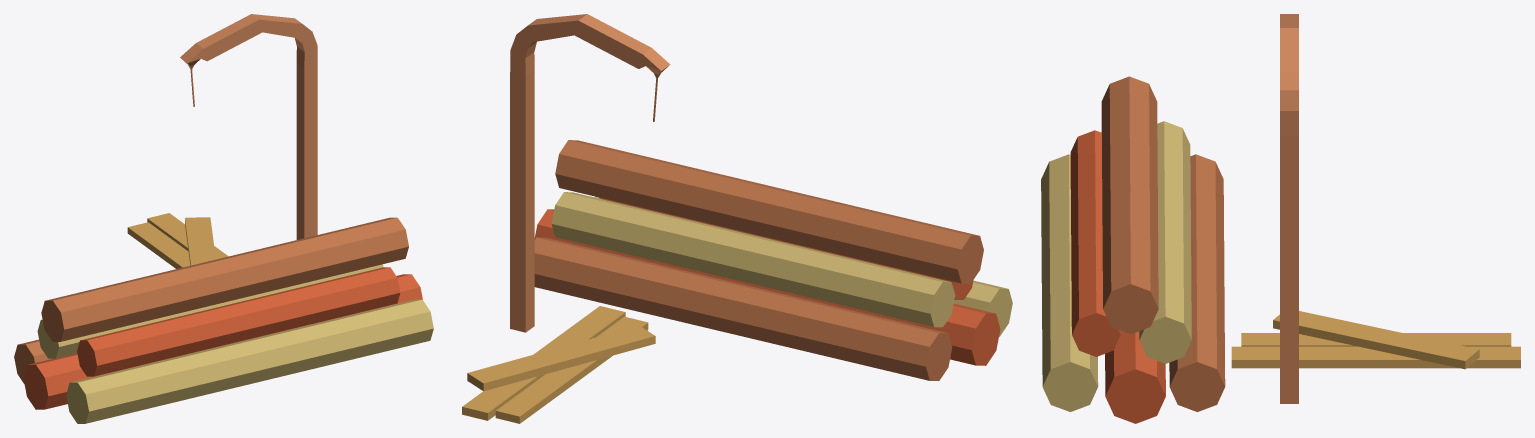
The model's file is WoodStation.fbx.
3 views of the same model, side by side, from view 1: azimuth 30°, elevation 25°; view 2: azimuth 150°, elevation 25°; view 3: azimuth 270°, elevation 25° (orthographic). The views are drawn at different scales.
Parts seen in each view (by area): view 1: Cylinder, Cube.001, Cube.002, Cube; view 2: Cylinder, Cube.002, Cube, Cube.001; view 3: Cylinder, Cube, Cube.002, Cube.001.
Boxes of the visible parts, <box> form: Cylinder: <box>14,14,433,423</box>; Cube.001: <box>127,222,190,268</box>; Cube.002: <box>185,217,215,265</box>; Cube: <box>147,213,228,259</box>; Cylinder: <box>510,14,1012,381</box>; Cube.002: <box>467,325,655,391</box>; Cube: <box>462,306,625,420</box>; Cube.001: <box>495,316,648,423</box>; Cylinder: <box>1041,14,1298,423</box>; Cube: <box>1231,346,1520,368</box>; Cube.002: <box>1273,311,1479,369</box>; Cube.001: <box>1241,333,1511,346</box>.
Size of the model in its own units: 739 by 524 by 668.
